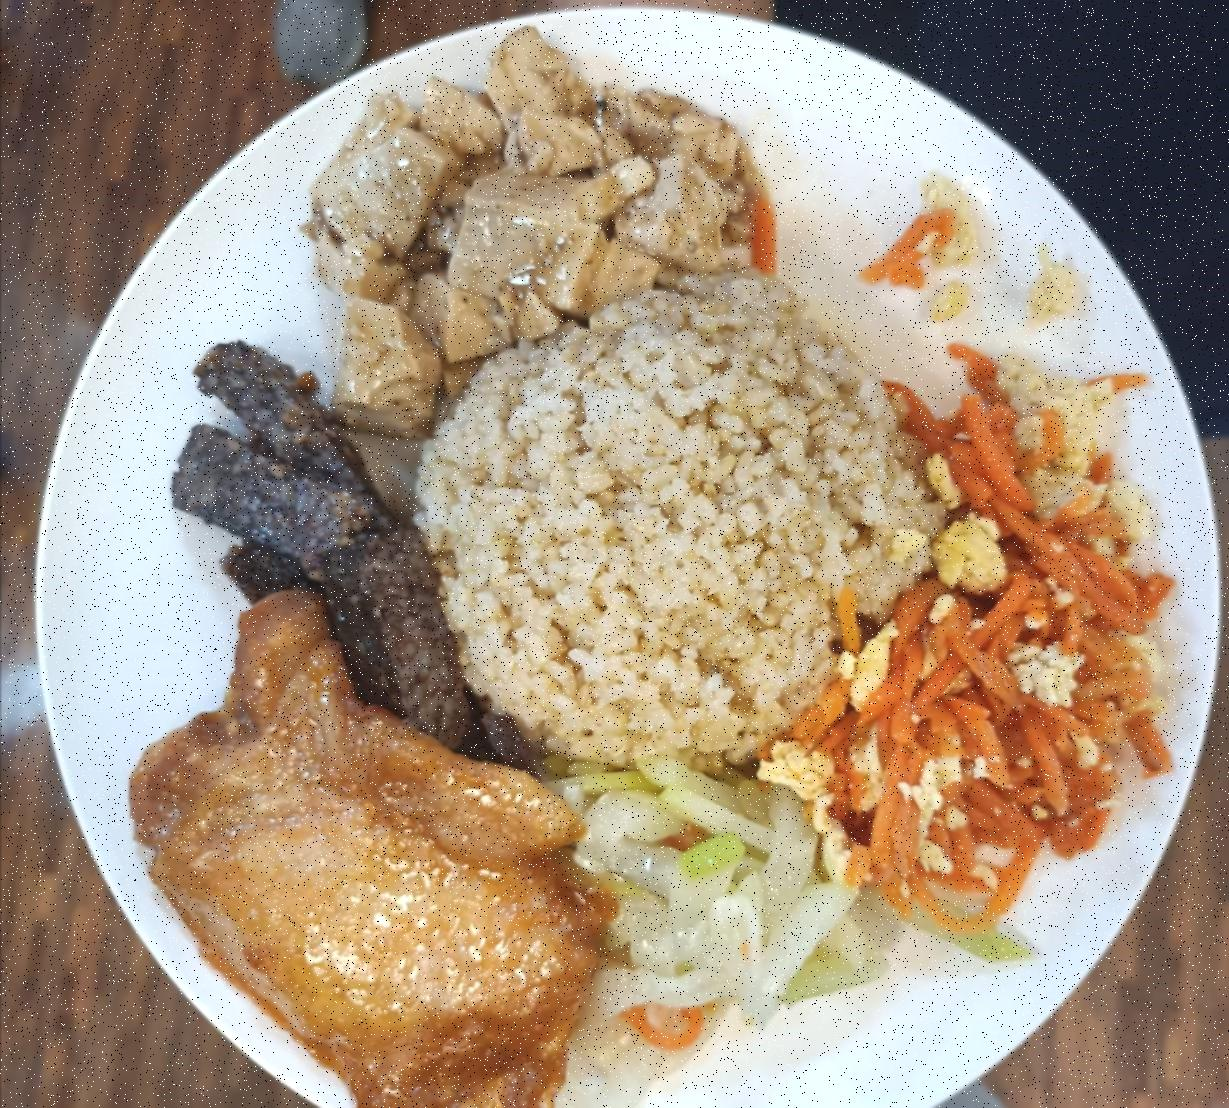brown rice: (437, 301, 896, 747)
grilled chicken leg steak: (121, 688, 603, 1102)
plate: (34, 24, 1198, 1096)
side dish: (845, 383, 1158, 892), (319, 63, 738, 333), (563, 760, 859, 1035), (191, 347, 406, 703)
